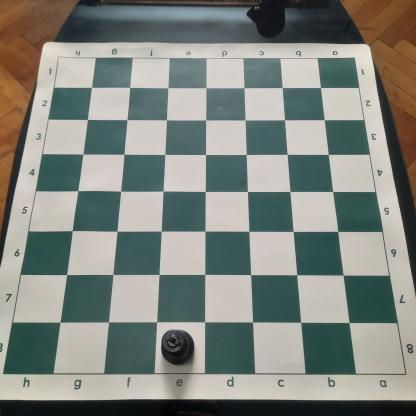black-king: (160, 328, 196, 368)
